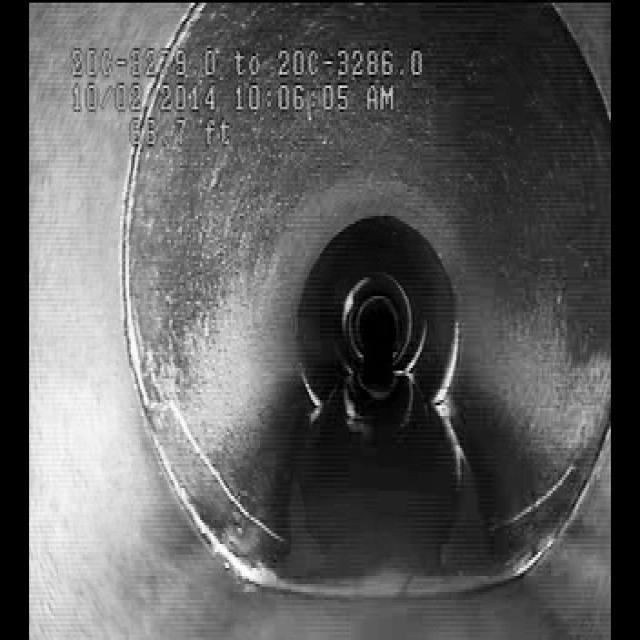Crack: (163, 365, 270, 545)
